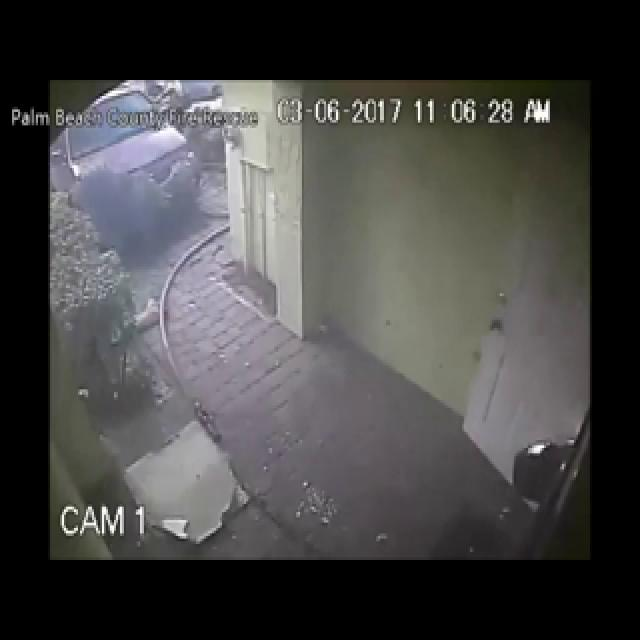explosion: (67, 103, 276, 459)
